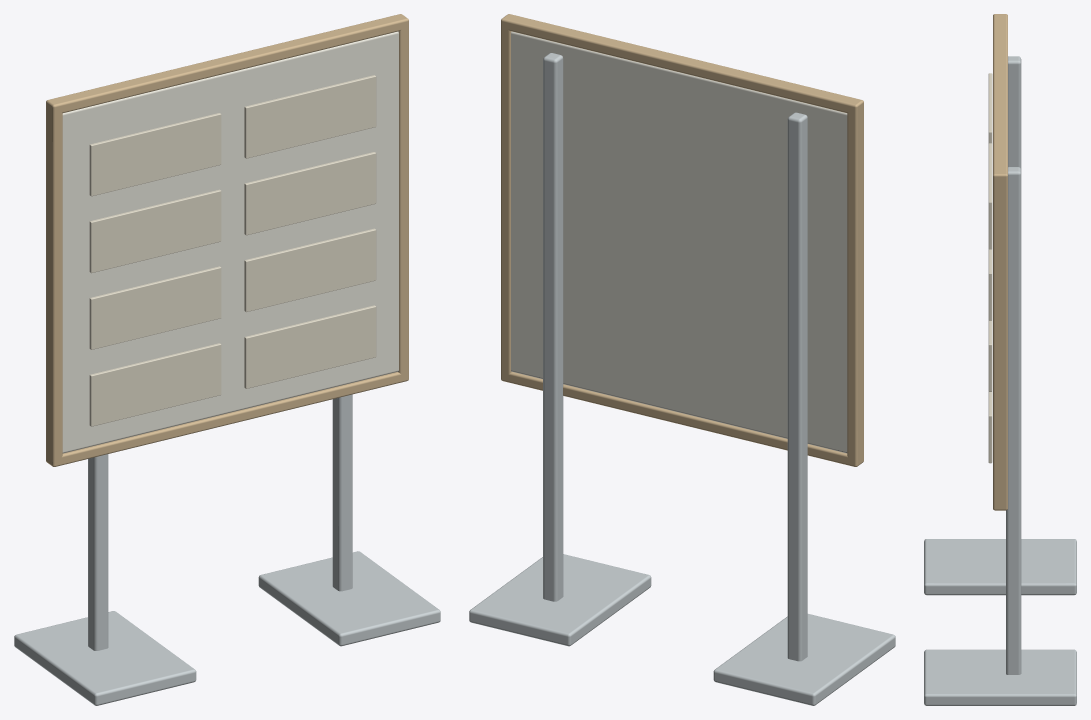
The model's file is tabletop-hobby-store-and-club-tournament-pairing-board-a979adfc__31572.glb.
The picture shows the model from 3 angles, left to right: view 1: azimuth 30°, elevation 25°; view 2: azimuth 150°, elevation 25°; view 3: azimuth 270°, elevation 25°; orthographic projection. The views are drawn at different scales.
Parts seen in each view (by area): view 1: tournament-pairing-board; view 2: tournament-pairing-board; view 3: tournament-pairing-board.
Boxes of the visible parts, x1,y1,x2,y2 form: tournament-pairing-board: [14, 14, 440, 705]; tournament-pairing-board: [469, 14, 895, 705]; tournament-pairing-board: [924, 14, 1076, 705].
Bounding box in the file's own units: 0.875 × 1.35 × 0.35.
